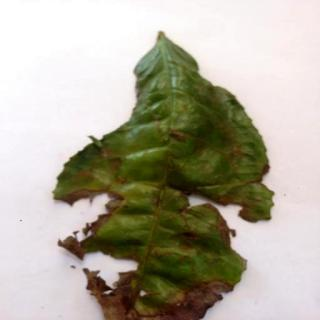Algal Leaf: (52, 31, 276, 320)
